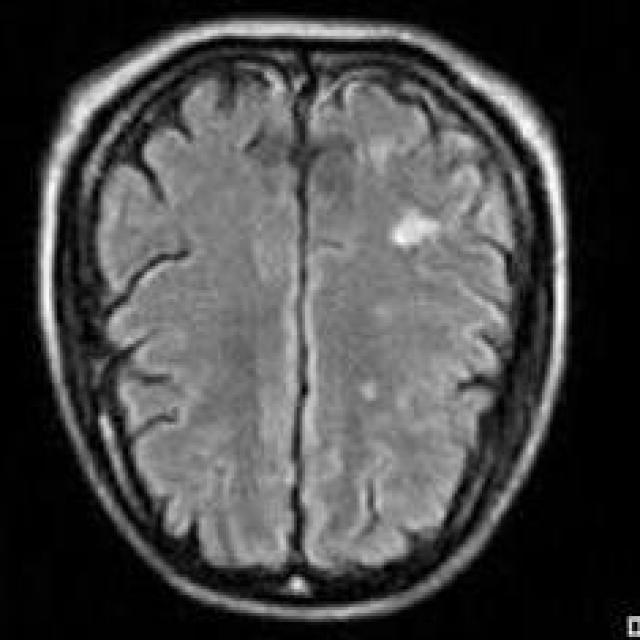notumor: (41, 18, 564, 616)
